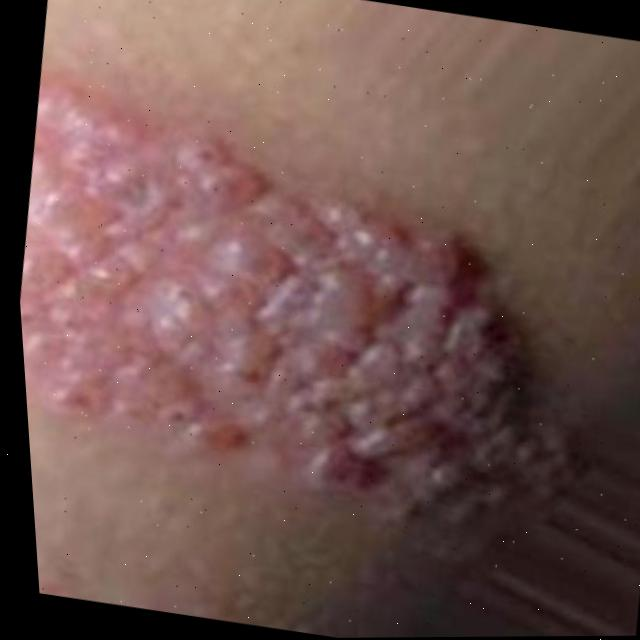Shingles: (8, 122, 546, 448)
